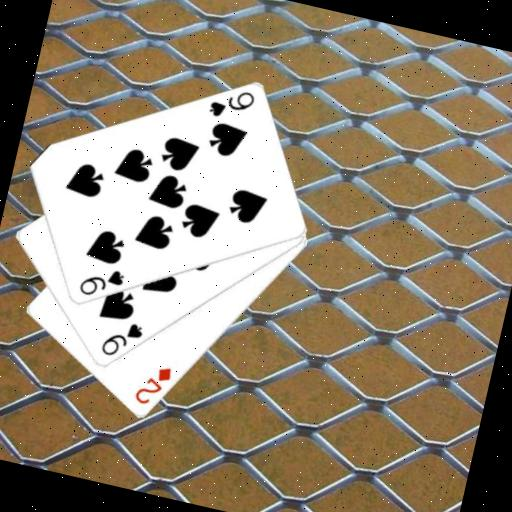2D: (130, 359, 175, 412)
9S: (97, 315, 147, 365), (74, 259, 127, 305), (205, 81, 258, 127)
